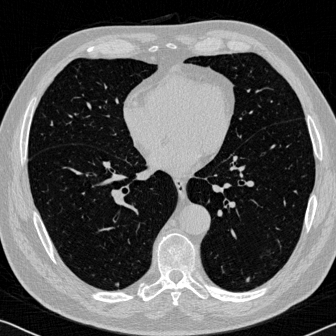nodule: (246, 277, 250, 281)
